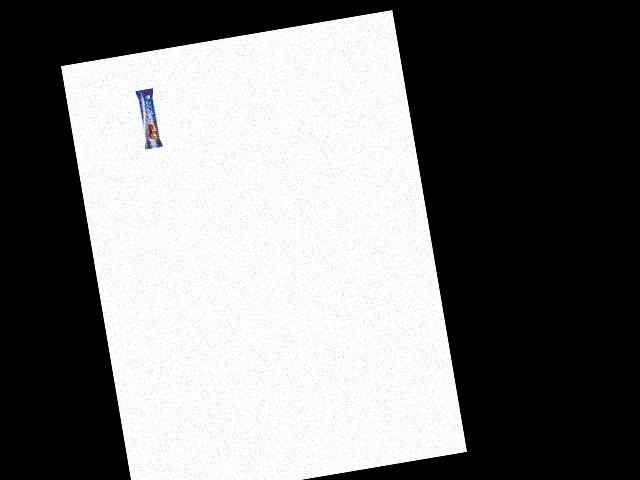chocolate: (134, 85, 169, 157)
